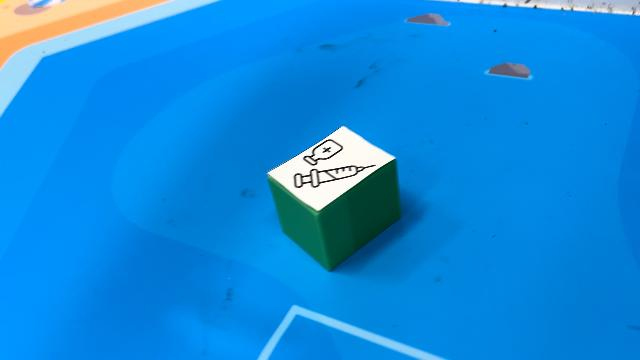syringe: (266, 126, 402, 272)
